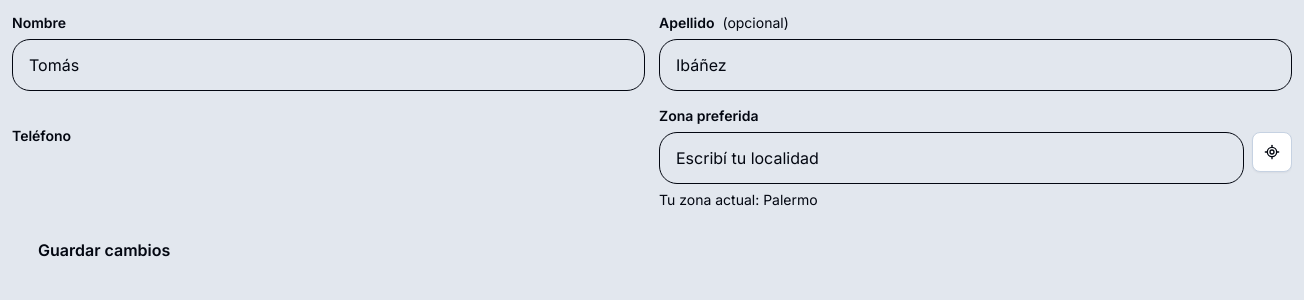
Test: ProfileForm › el error de un campo va junto a ese campo, que queda marcado
Click the button "Guardar cambios" at (104, 250), box [12, 224, 196, 276]
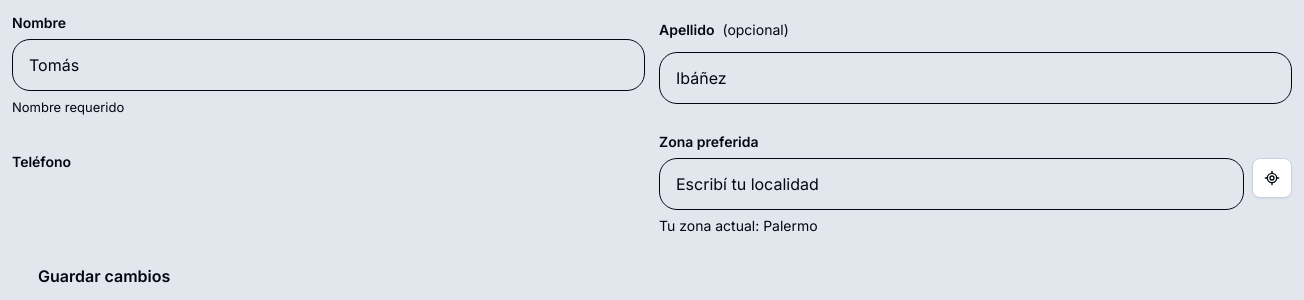
Now the message reads "Nombre requerido", box [12, 99, 124, 115]
